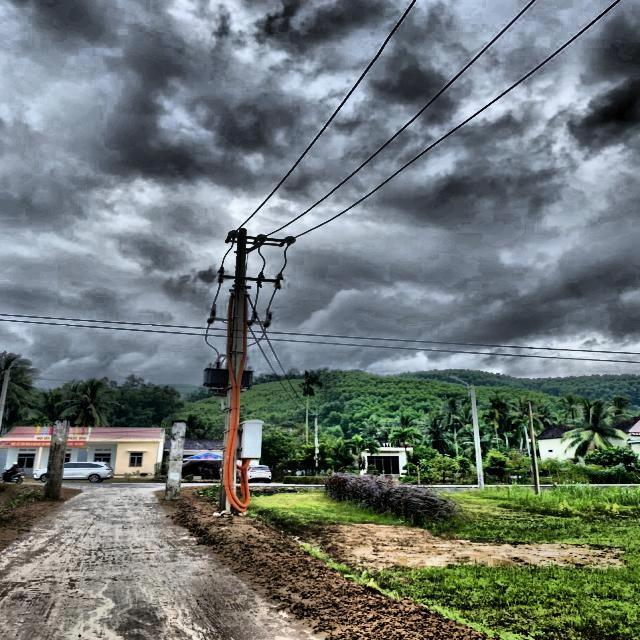crossarm: (226, 231, 289, 247), (211, 317, 269, 326), (221, 274, 279, 282)
pole: (216, 231, 249, 511)
transformer: (241, 419, 262, 457), (204, 370, 225, 396), (243, 369, 253, 387)
wire: (287, 0, 622, 243), (259, 0, 538, 241), (229, 0, 423, 239), (224, 298, 250, 513)
